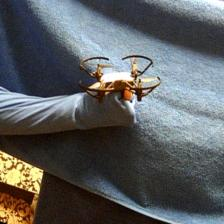drone: (80, 56, 162, 101)
